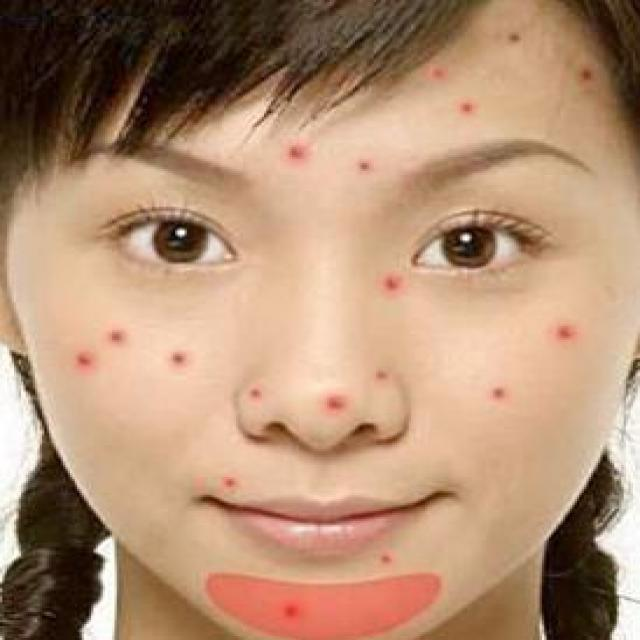blackheads: (549, 316, 584, 344), (324, 389, 352, 414), (283, 141, 308, 161), (280, 602, 304, 622), (75, 348, 91, 373), (168, 348, 192, 364), (108, 328, 128, 346), (491, 384, 509, 404), (374, 550, 394, 568), (509, 28, 526, 48), (430, 61, 446, 80), (388, 272, 402, 292), (373, 368, 388, 383), (462, 102, 479, 114), (355, 159, 367, 173), (222, 477, 233, 489), (252, 388, 264, 398), (580, 61, 586, 76)
